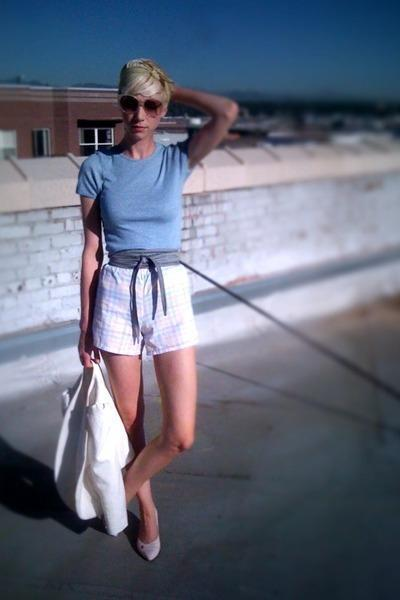bag: (52, 352, 128, 535)
shirt: (75, 132, 197, 249)
shoe: (139, 535, 159, 559)
shorts: (86, 264, 210, 371)
sunglass: (108, 96, 162, 127)
